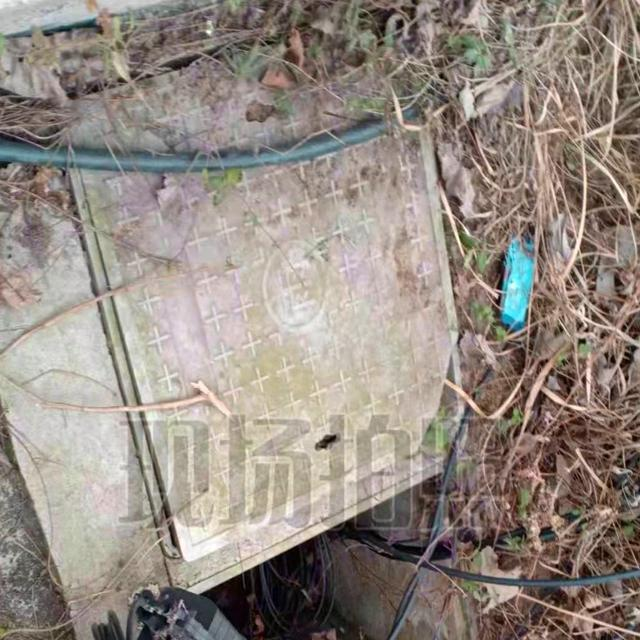lose: (61, 34, 497, 640)
